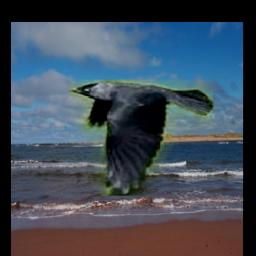Crow: (70, 80, 214, 197)
